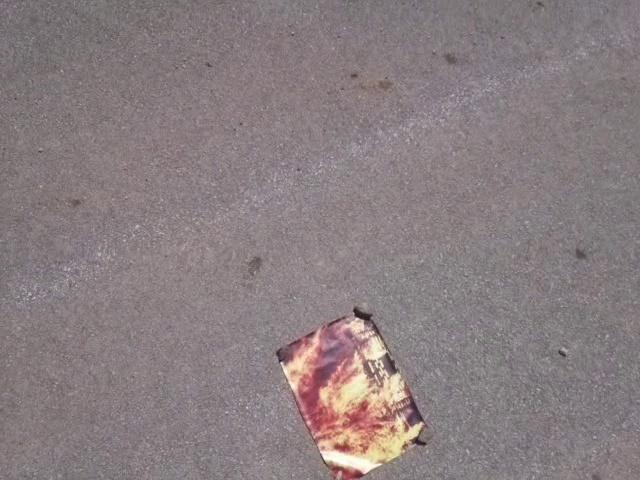fire-poster: (273, 305, 429, 479)
